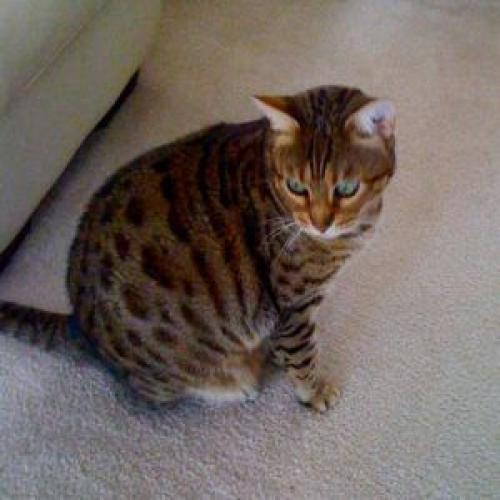cat-face: (241, 76, 408, 247)
